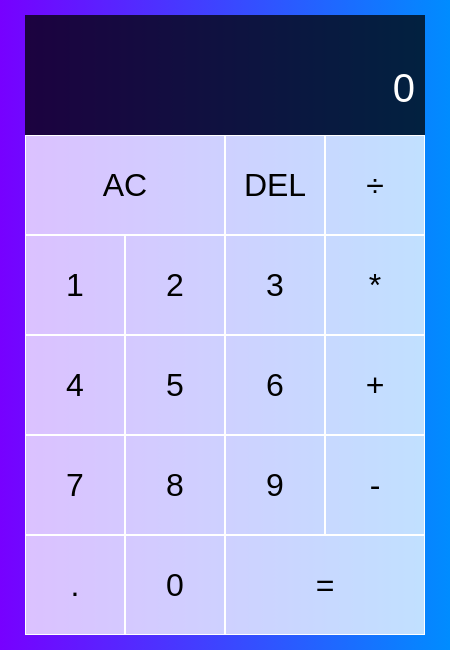
calculator › correctly handles all clear
Click the button "4" at (75, 385), box [25,335,125,435]
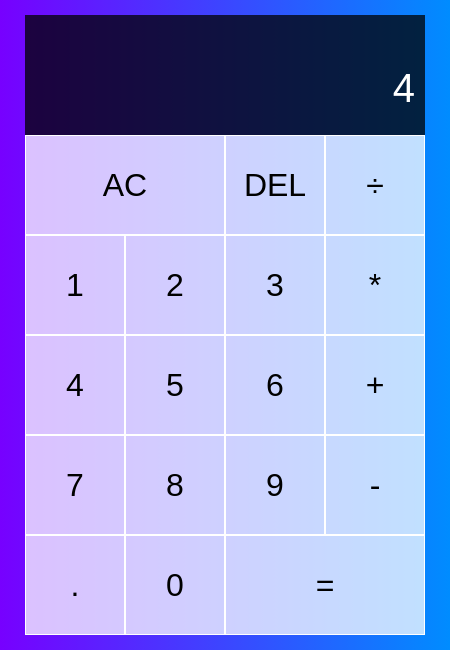
Click the button "+" at (375, 385), box [325,335,425,435]
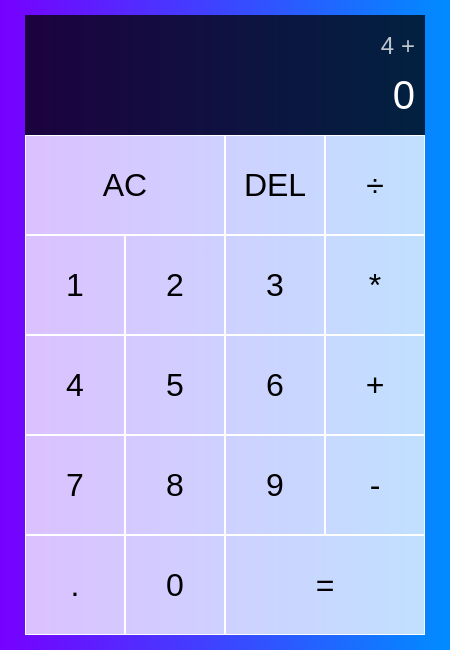
Click the button "6" at (275, 385), box [225,335,325,435]
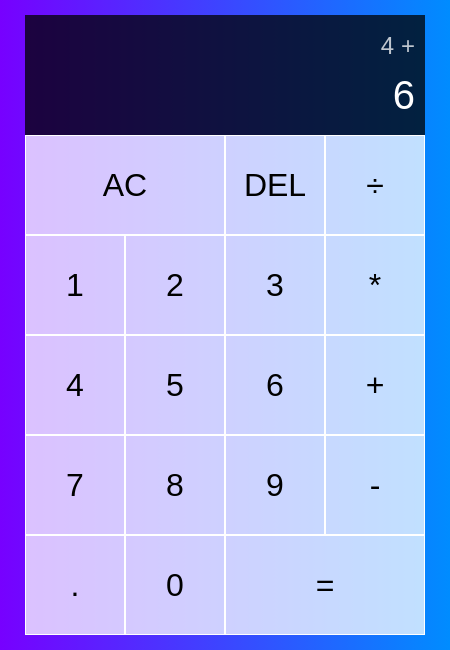
Click the button "AC" at (125, 185), box [25,135,225,235]
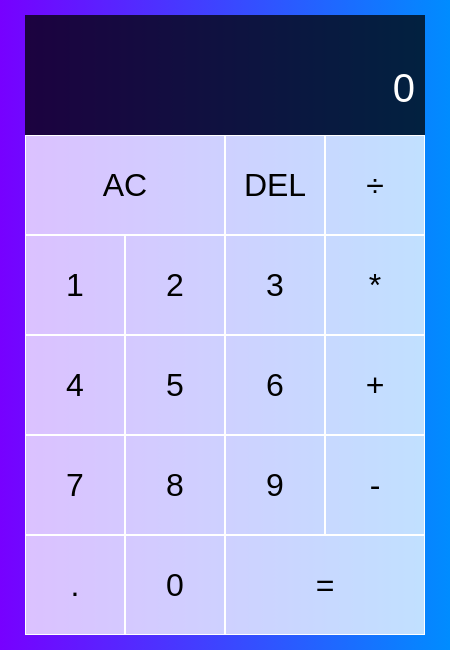
Now the text "0" is shown, box [393,66,415,111]
